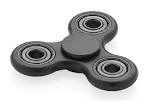fidget_spinner: (5, 2, 144, 96)
